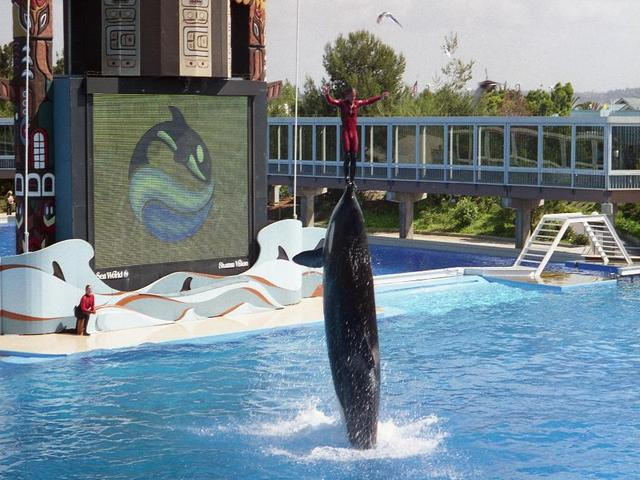dolphin: (298, 176, 379, 371)
